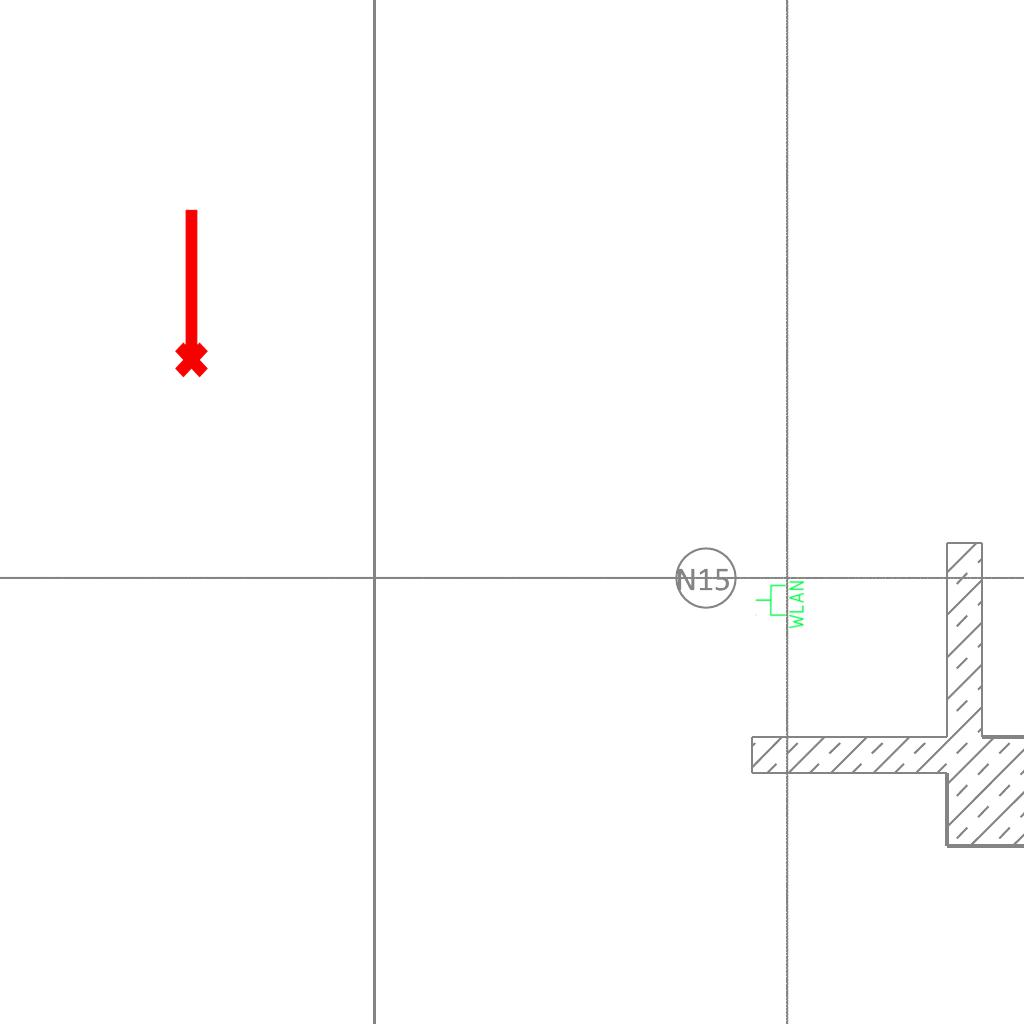ASR_Ansaugoeffnung: (166, 204, 212, 380)
WLAN: (754, 579, 806, 631)
